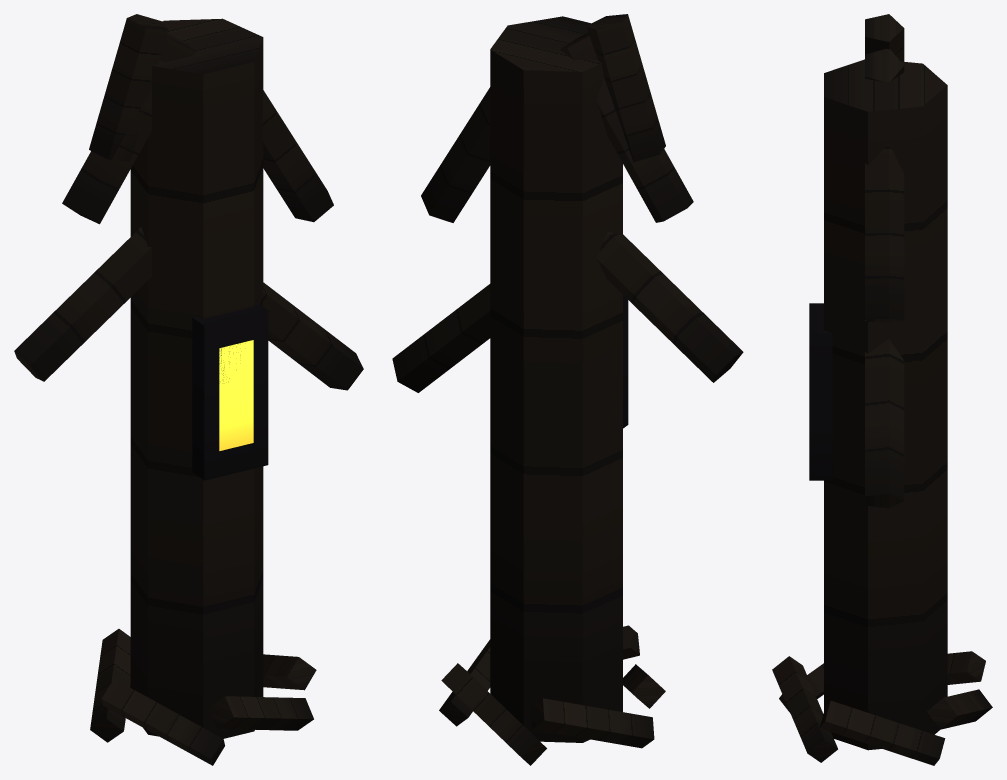
The model's file is dead_tree.glb.
3 renders of one model, left to right at view 1: azimuth 30°, elevation 25°; view 2: azimuth 150°, elevation 25°; view 3: azimuth 270°, elevation 25°, orthographic. The views are drawn at different scales.
Visible parts, largest first — view 1: dead_tree; view 2: dead_tree; view 3: dead_tree.
Part boxes in pixels (x1=…): dead_tree: x1=14, y1=14, x2=363, y2=765; dead_tree: x1=392, y1=14, x2=743, y2=765; dead_tree: x1=772, y1=14, x2=992, y2=765.
Size of the model in its own units: 1.39 by 2.79 by 0.8154.
Materials: 1 (1 with a texture image).
